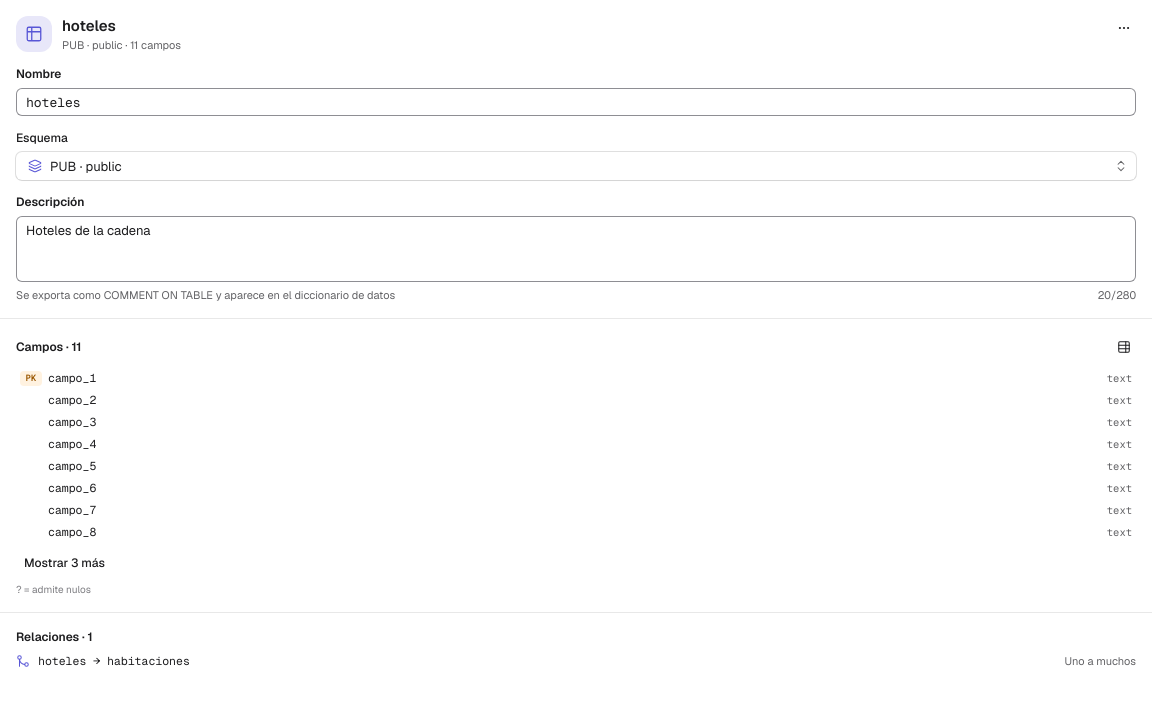
inspector de la tabla seleccionada › con más de ocho campos esconde el resto tras «Mostrar N más» (FR-044)
What coordinates should you click on to do the following:
click the button "Mostrar 3 más"
I would click on:
 (64, 563)
Its box is [16, 551, 113, 575].
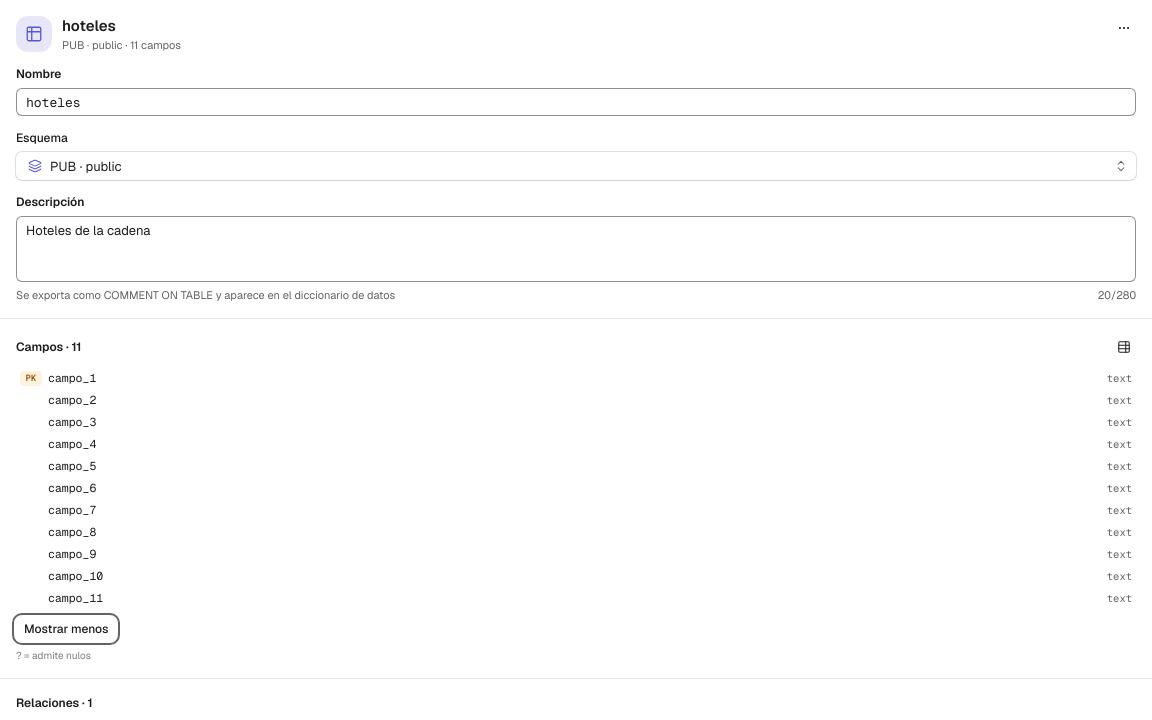
Expected: the number of buttons "PK campo_1 text" is 11
What coordinates should you click on to do the following:
click the button "Mostrar menos"
I would click on:
 (66, 629)
Its box is [16, 617, 116, 641].
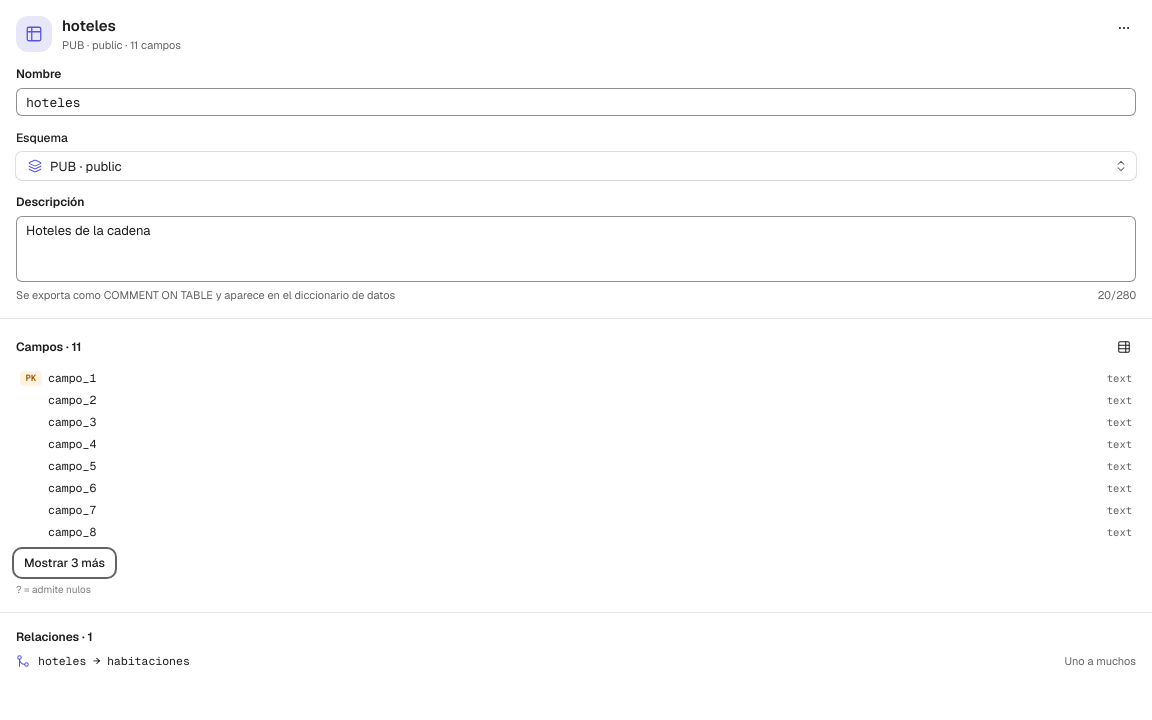
Expected: the number of buttons "PK campo_1 text" is 8
